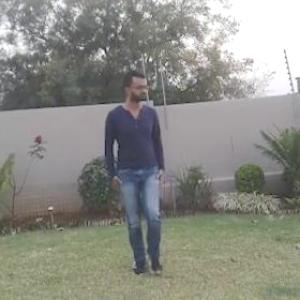follow: (104, 65, 175, 282)
